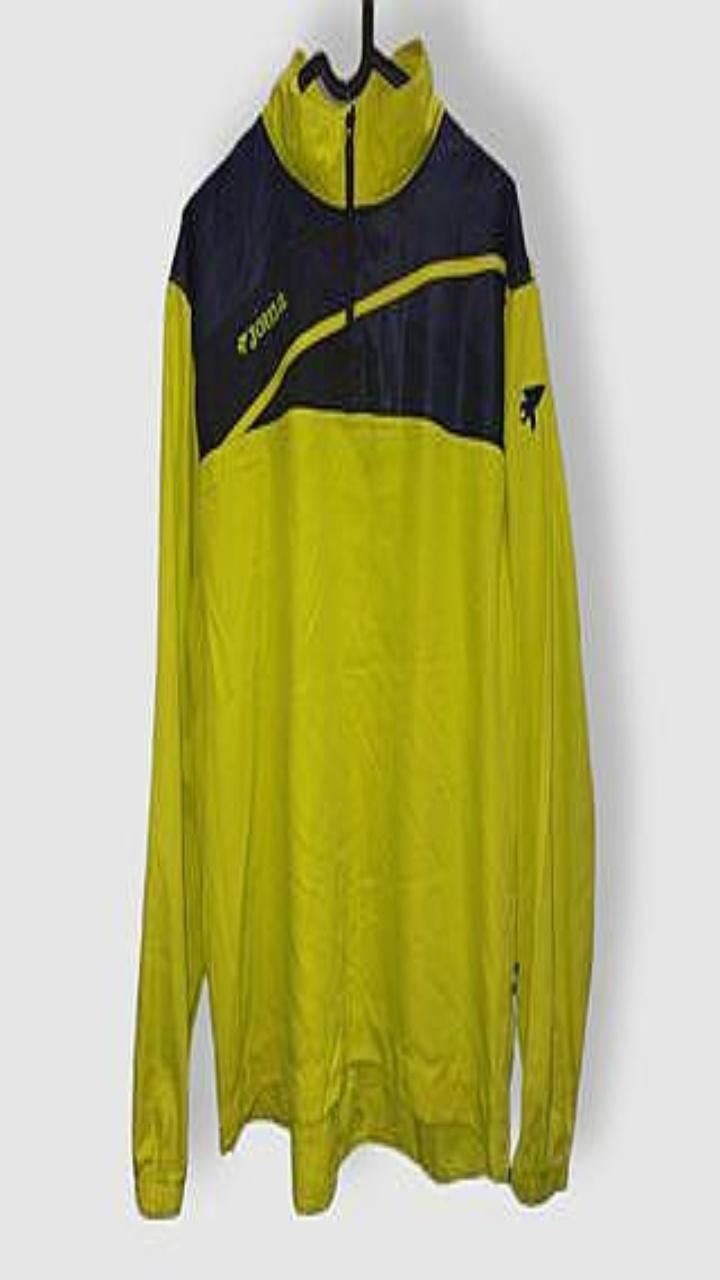Sports_Jacket: (132, 39, 593, 1215)
